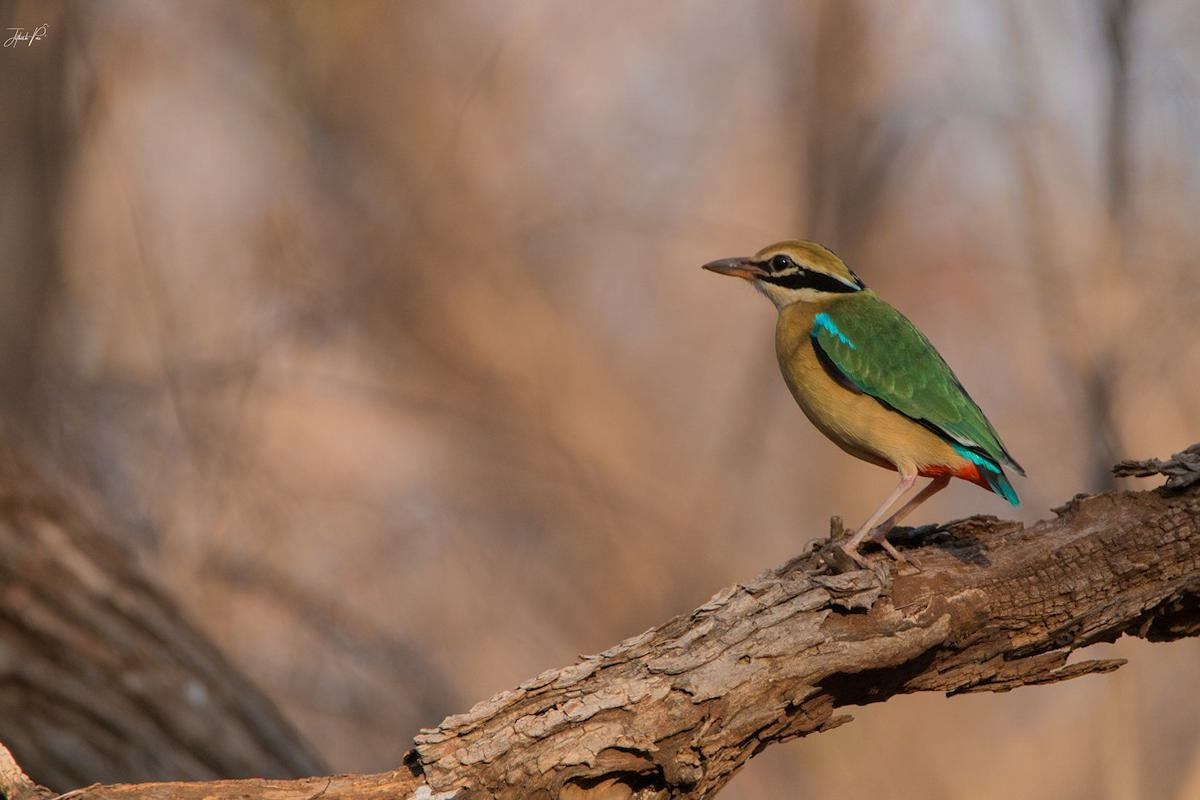pitta: (685, 195, 1019, 568)
